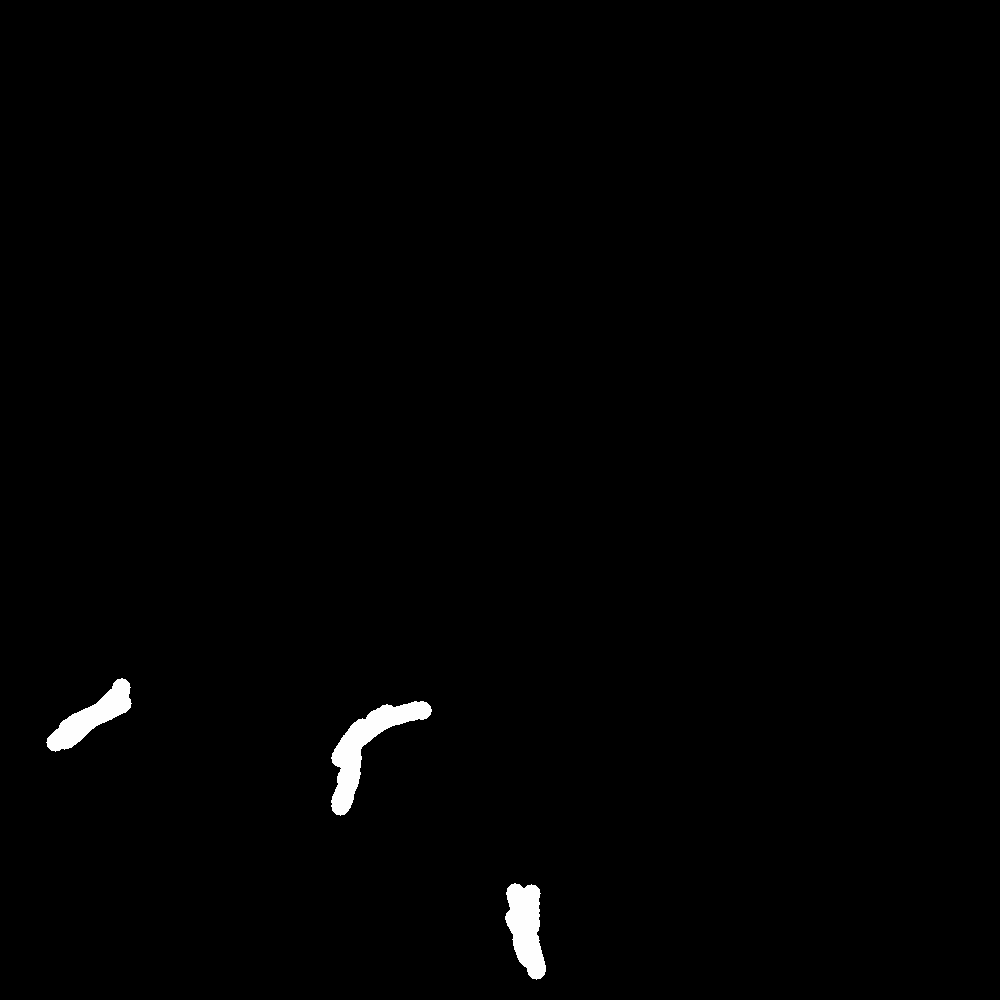illegal: (510, 868, 554, 991)
